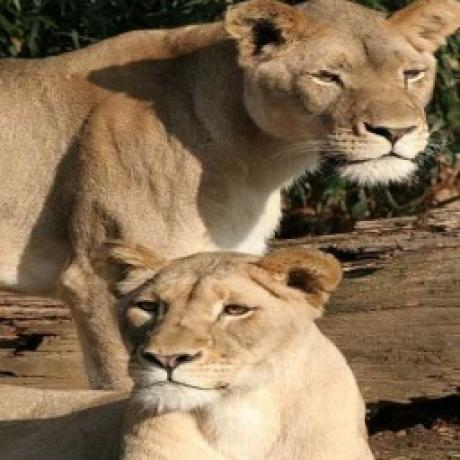Lion: (0, 0, 460, 294), (0, 233, 374, 460)
